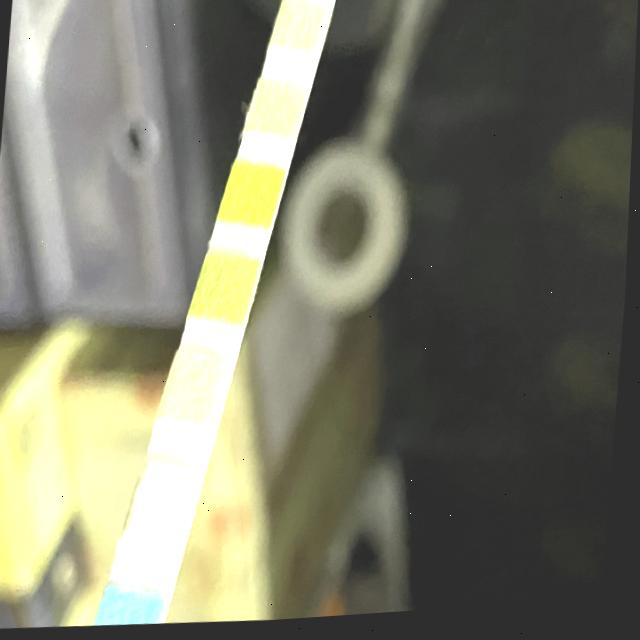Bilirubin: (140, 475, 194, 540)
Blood: (227, 169, 277, 222)
Glucose: (110, 594, 157, 629)
Ketone: (171, 358, 222, 423)
Protein: (276, 5, 322, 52)
SpGravity: (201, 262, 253, 319)
pH: (253, 87, 300, 135)
